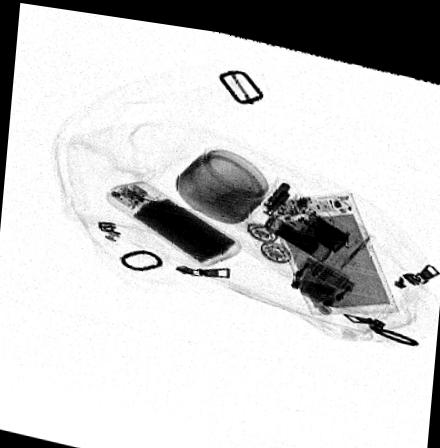Powerbank: (262, 182, 397, 306), (102, 175, 242, 259)
